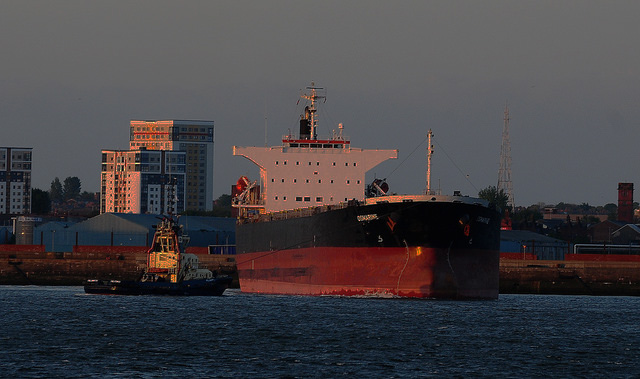bulk carrier: (234, 89, 499, 303)
tug_boat: (82, 215, 228, 300)
